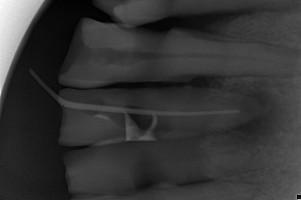Furcation Involvement: (229, 82, 284, 141)
